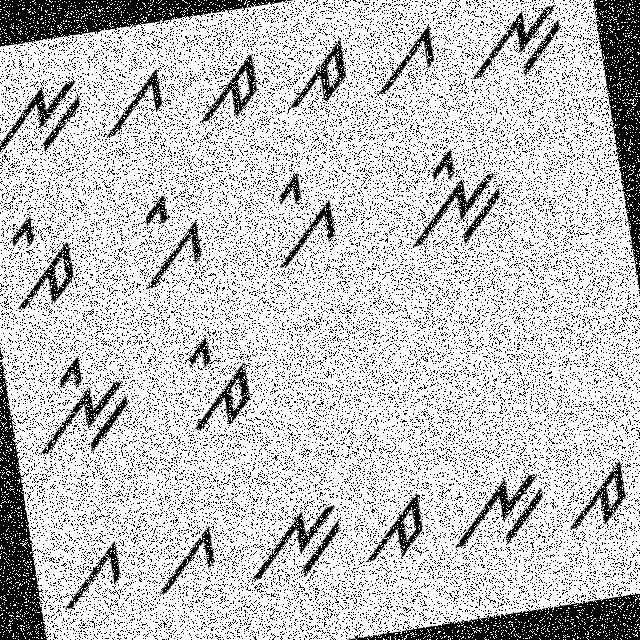ga: (50, 528, 132, 619), (140, 513, 223, 601), (370, 13, 444, 100), (92, 61, 168, 140)
gi: (251, 158, 352, 282), (120, 176, 212, 298)
nga: (230, 488, 352, 592), (442, 453, 555, 562), (459, 0, 576, 89), (0, 68, 95, 170)
ngi: (390, 135, 513, 258), (21, 343, 137, 462)
ta: (182, 42, 271, 132), (555, 448, 637, 544), (354, 484, 432, 574), (272, 34, 358, 114)
ti: (172, 322, 262, 436), (0, 203, 82, 315)
